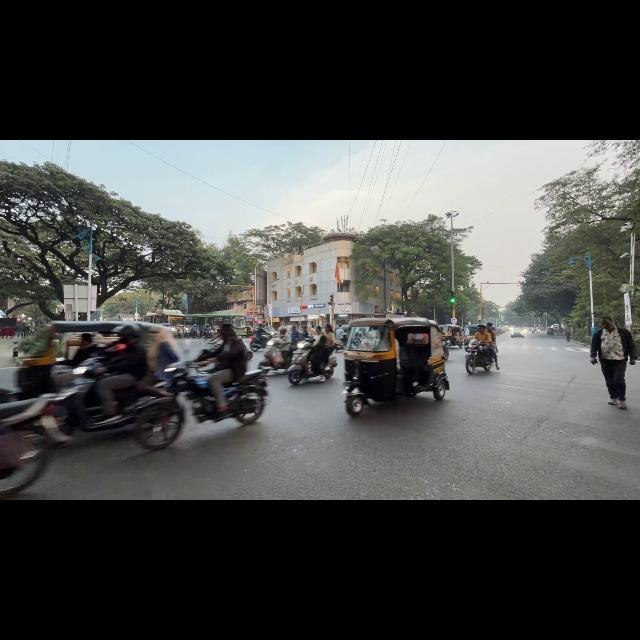bus: (186, 314, 246, 335), (144, 310, 186, 326)
car: (511, 328, 524, 338), (547, 328, 554, 335)
motorcycle: (56, 358, 184, 449), (0, 394, 67, 498), (165, 362, 268, 424), (288, 341, 336, 384), (259, 338, 290, 372), (466, 339, 492, 374), (250, 334, 271, 351), (202, 342, 221, 354), (442, 339, 450, 360), (333, 340, 344, 351), (203, 329, 215, 339), (173, 327, 183, 338), (189, 329, 200, 338)
